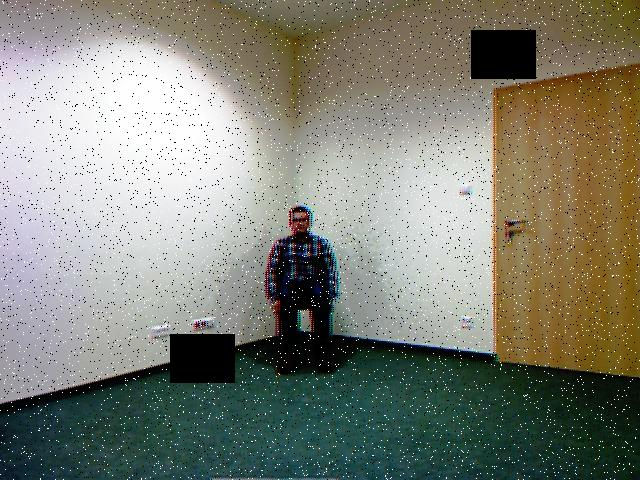sitting: (266, 194, 343, 381)
